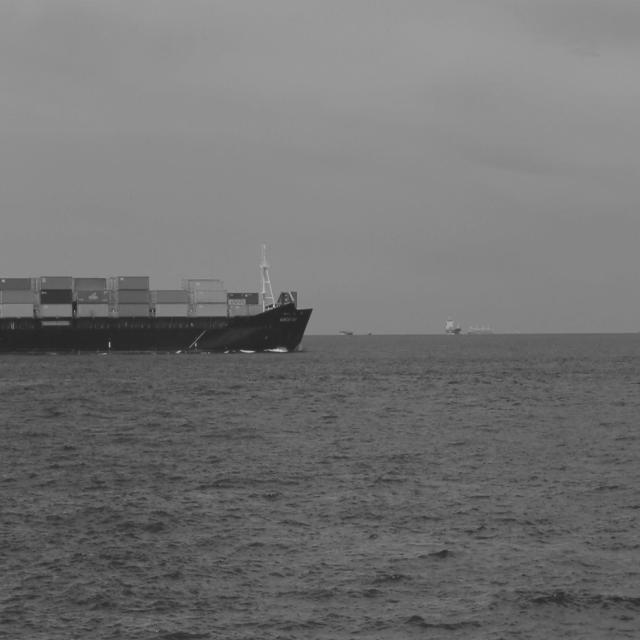ship: (0, 242, 317, 353), (433, 315, 453, 335)
